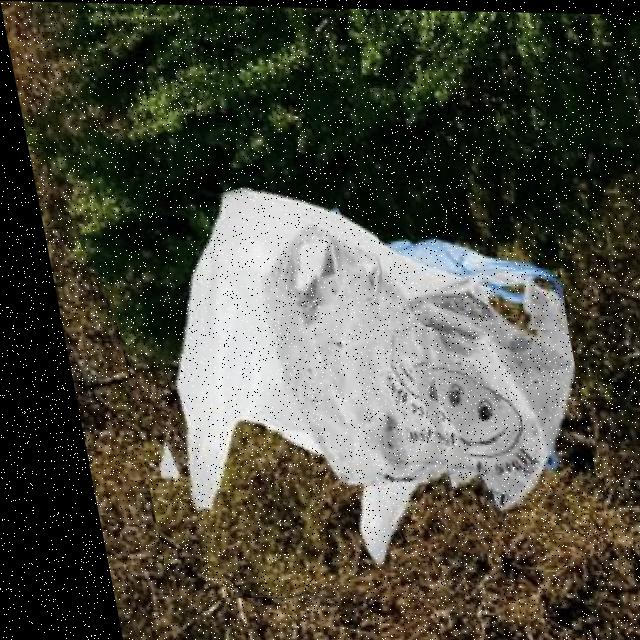litter: (83, 176, 462, 601), (269, 251, 587, 531), (367, 221, 555, 327)
